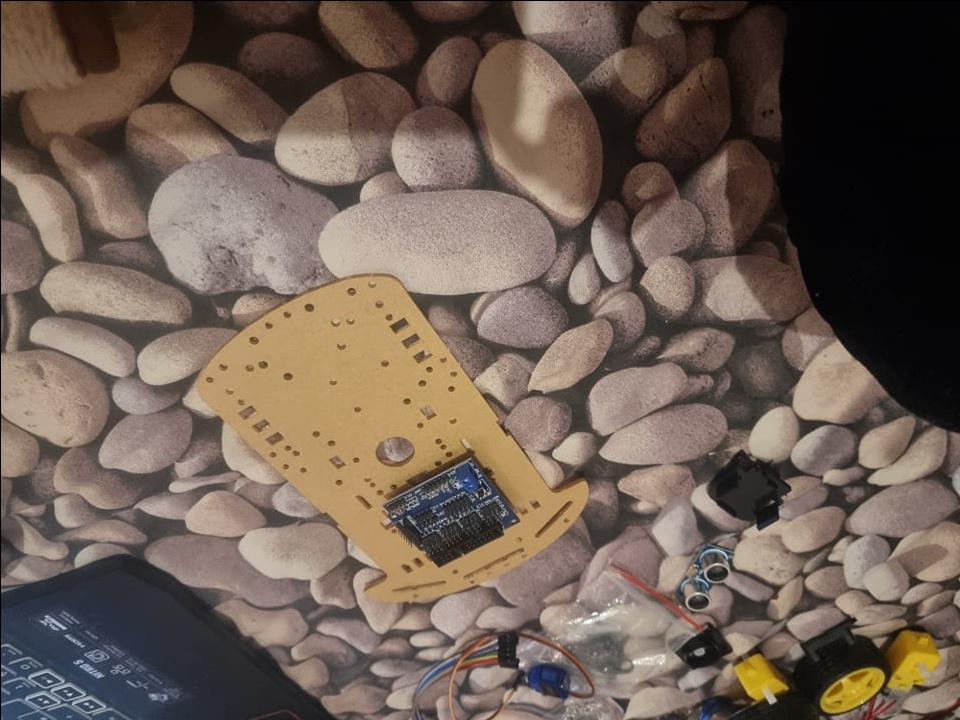5V EXPANSION: (380, 455, 523, 567)
SENSOR: (677, 541, 735, 616)
